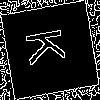K: (25, 24, 75, 67)
